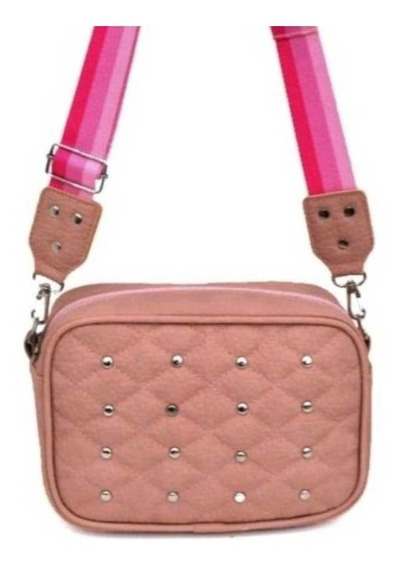cartera: (20, 21, 379, 537)
